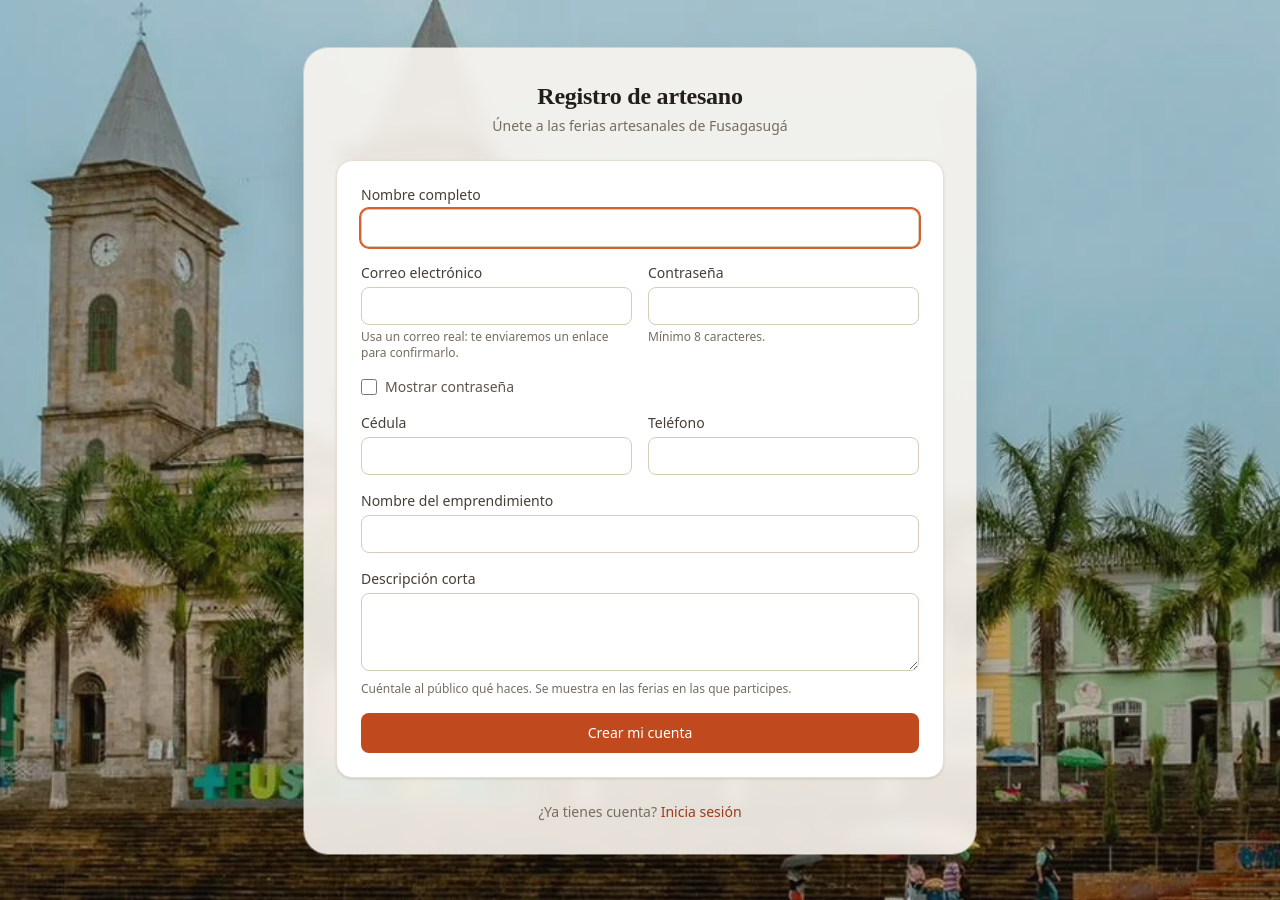
Test: RegistroArtesano: envío › si el servidor rechaza el registro muestra el error y conserva lo escrito
The width and height of the screenshot is (1280, 900).
Type "Ana Gómez" into the field labelled "Nombre completo" at (640, 228), box [361,209,919,247]
Type "ana@correo.com" into the field labelled "Correo electrónico" at (496, 306), box [361,287,632,325]
Type "Segura1234" into the password field labelled "Contraseña" at (784, 306), box [648,287,919,325]
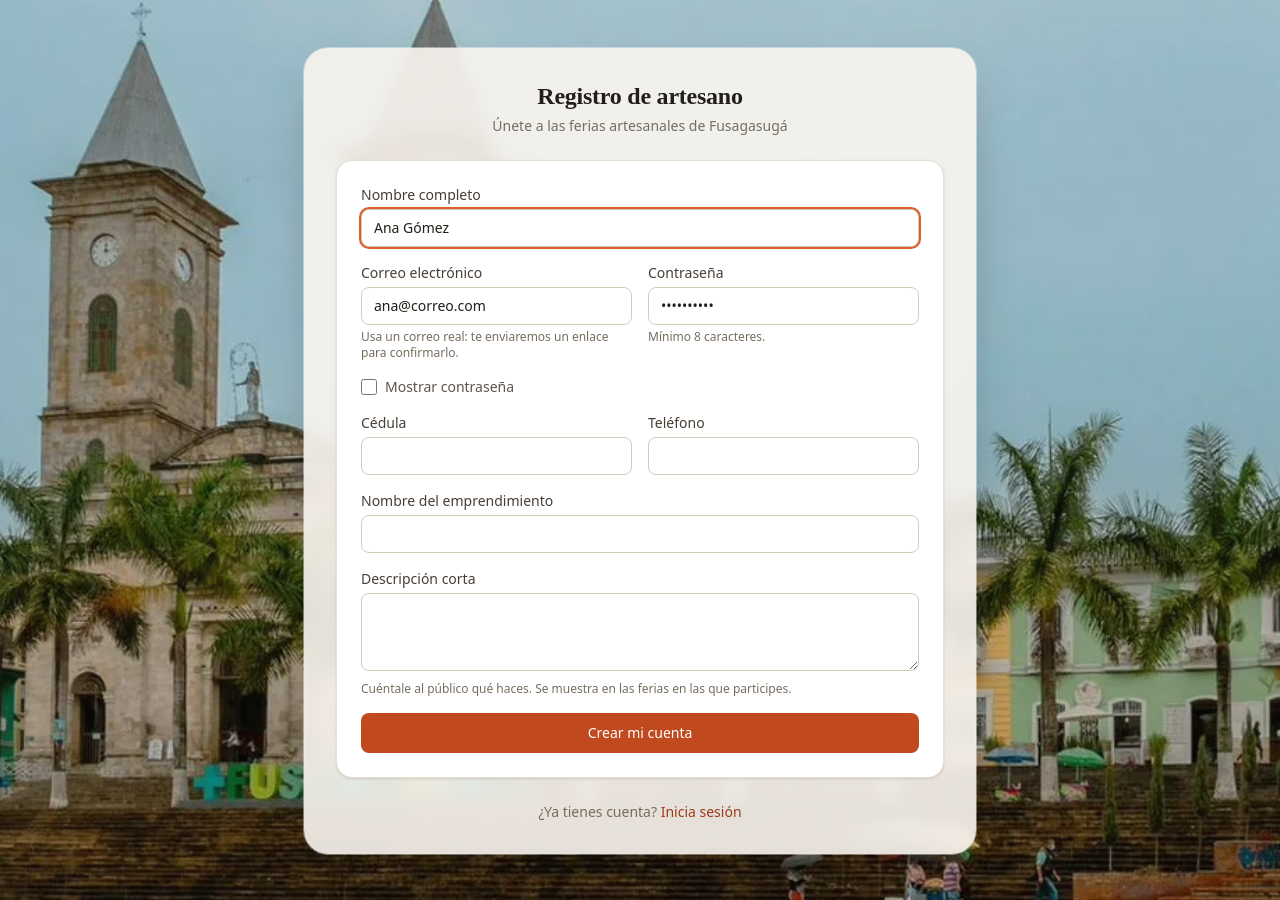
Type "1010101010" into the field labelled "Cédula" at (496, 456), box [361,437,632,475]
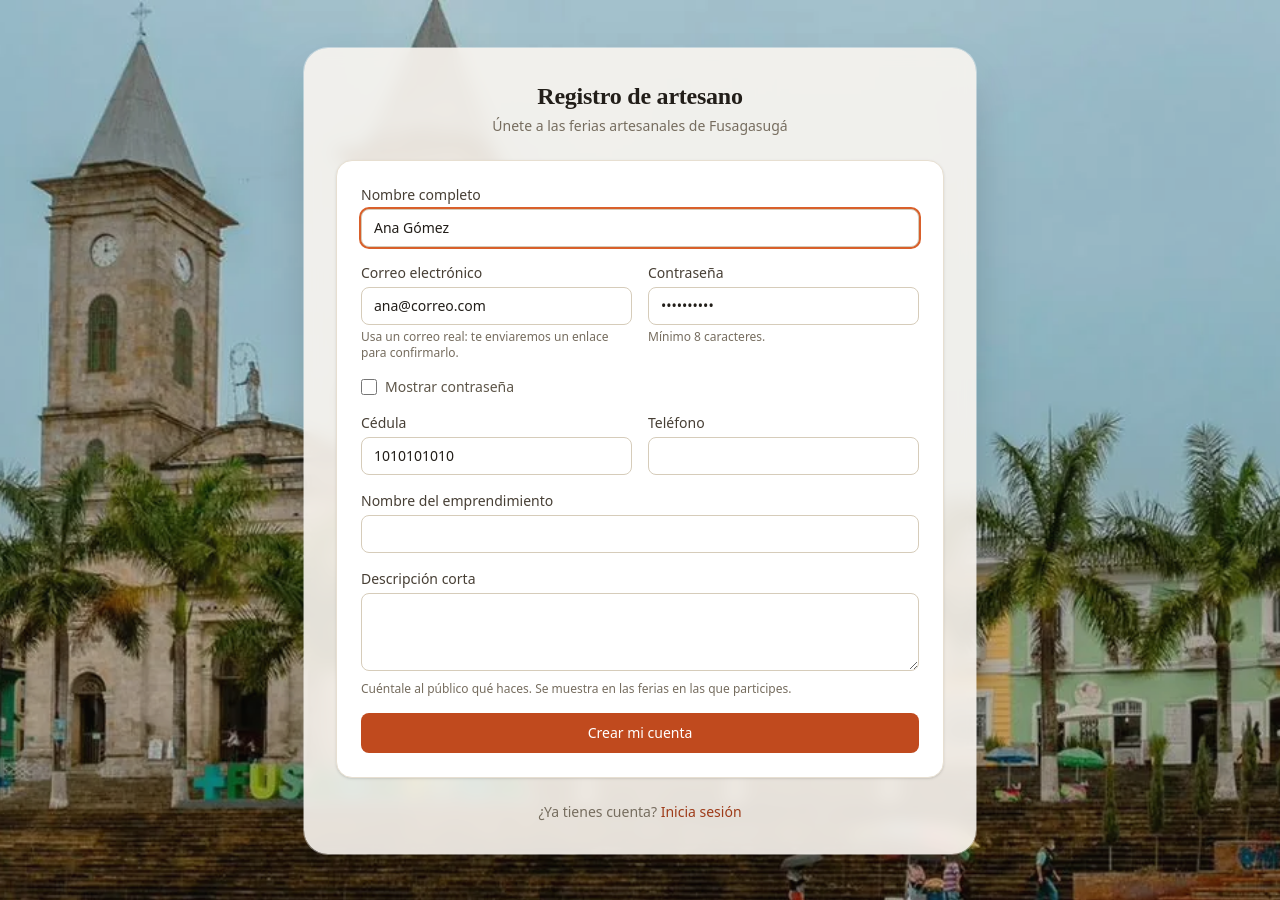
Type "3001234567" into the field labelled "Teléfono" at (784, 456), box [648,437,919,475]
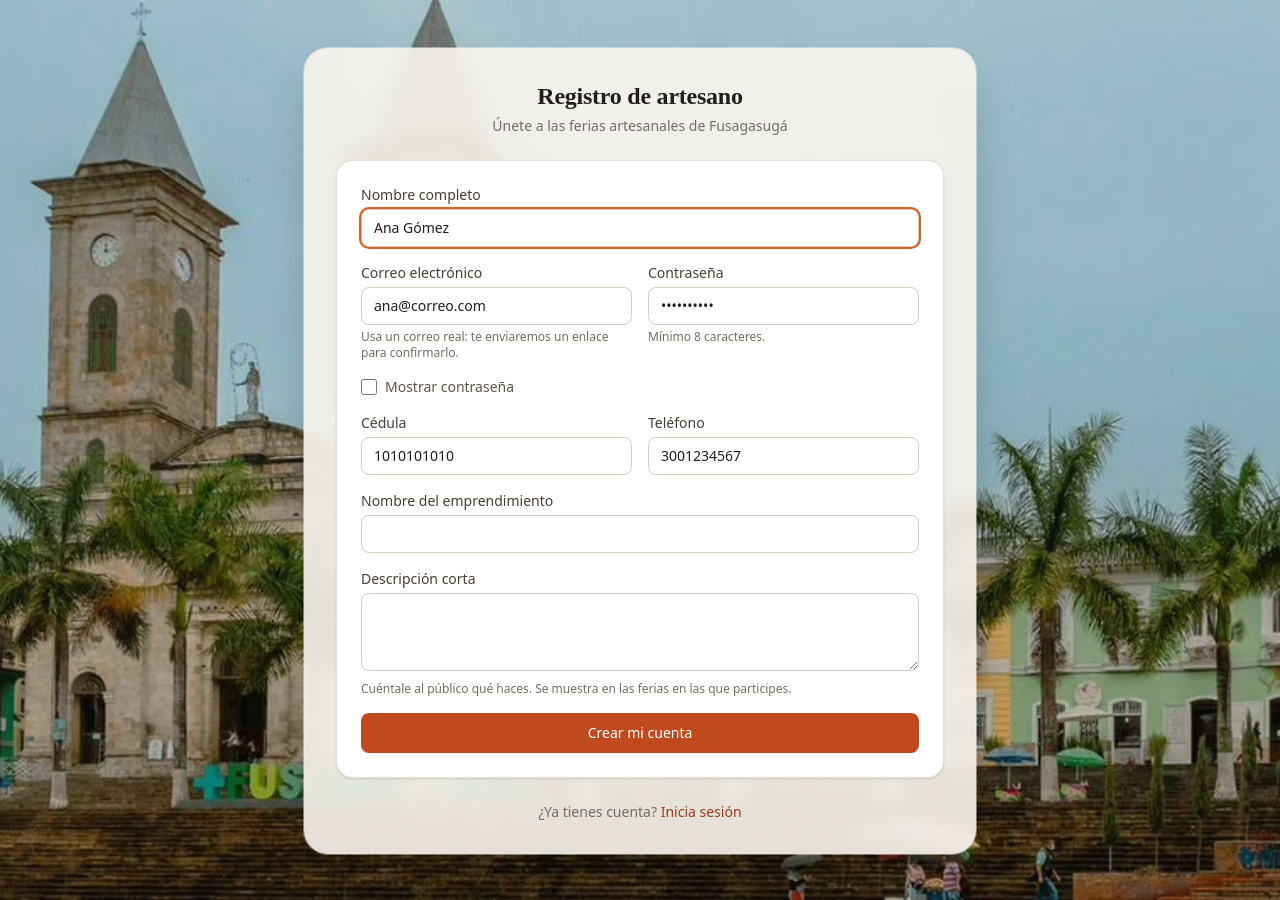
Type "Cerámicas Ana" into the field labelled "Nombre del emprendimiento" at (640, 534), box [361,515,919,553]
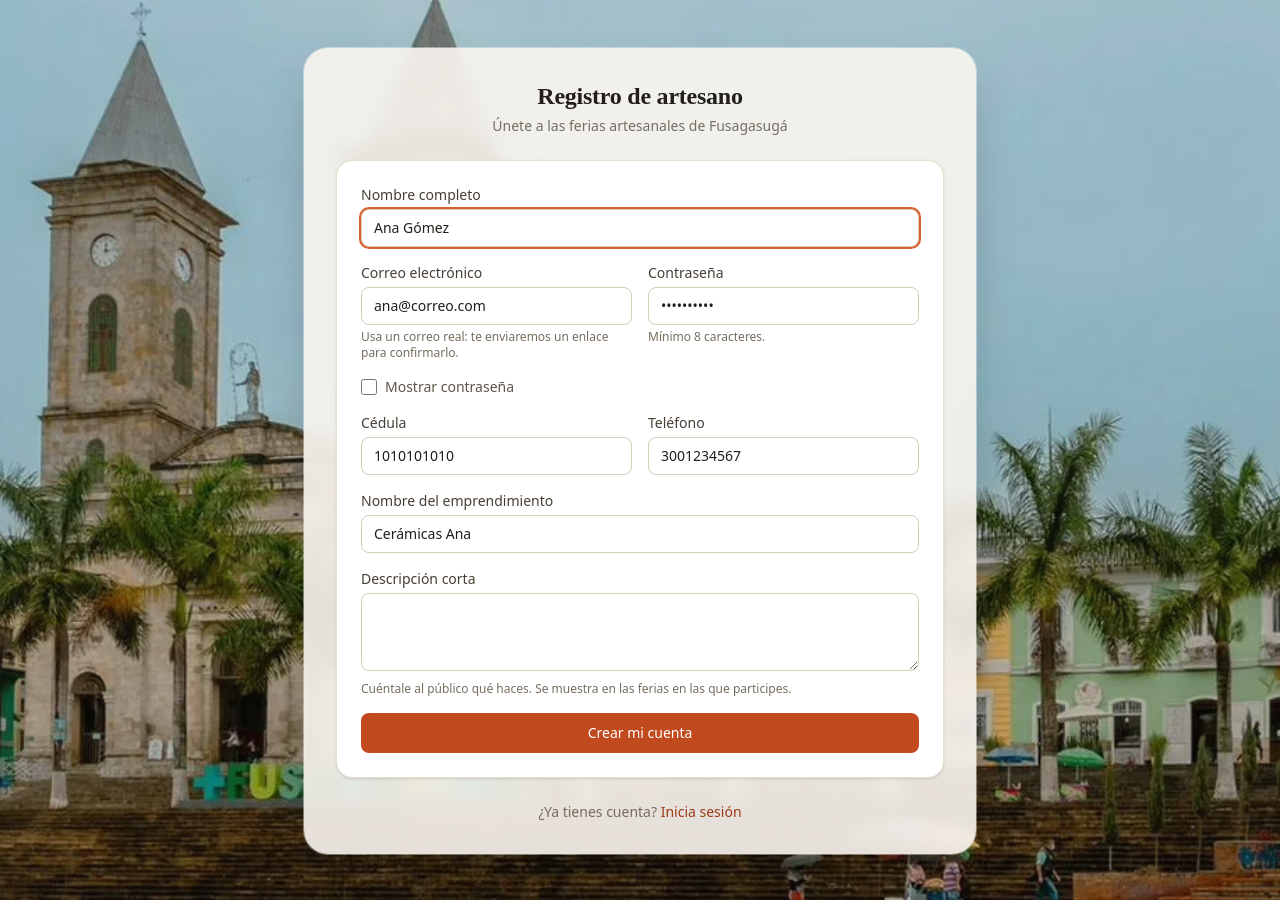
Type "Vasijas hechas a mano." into the text box labelled "Descripción corta" at (640, 632), box [361,593,919,671]
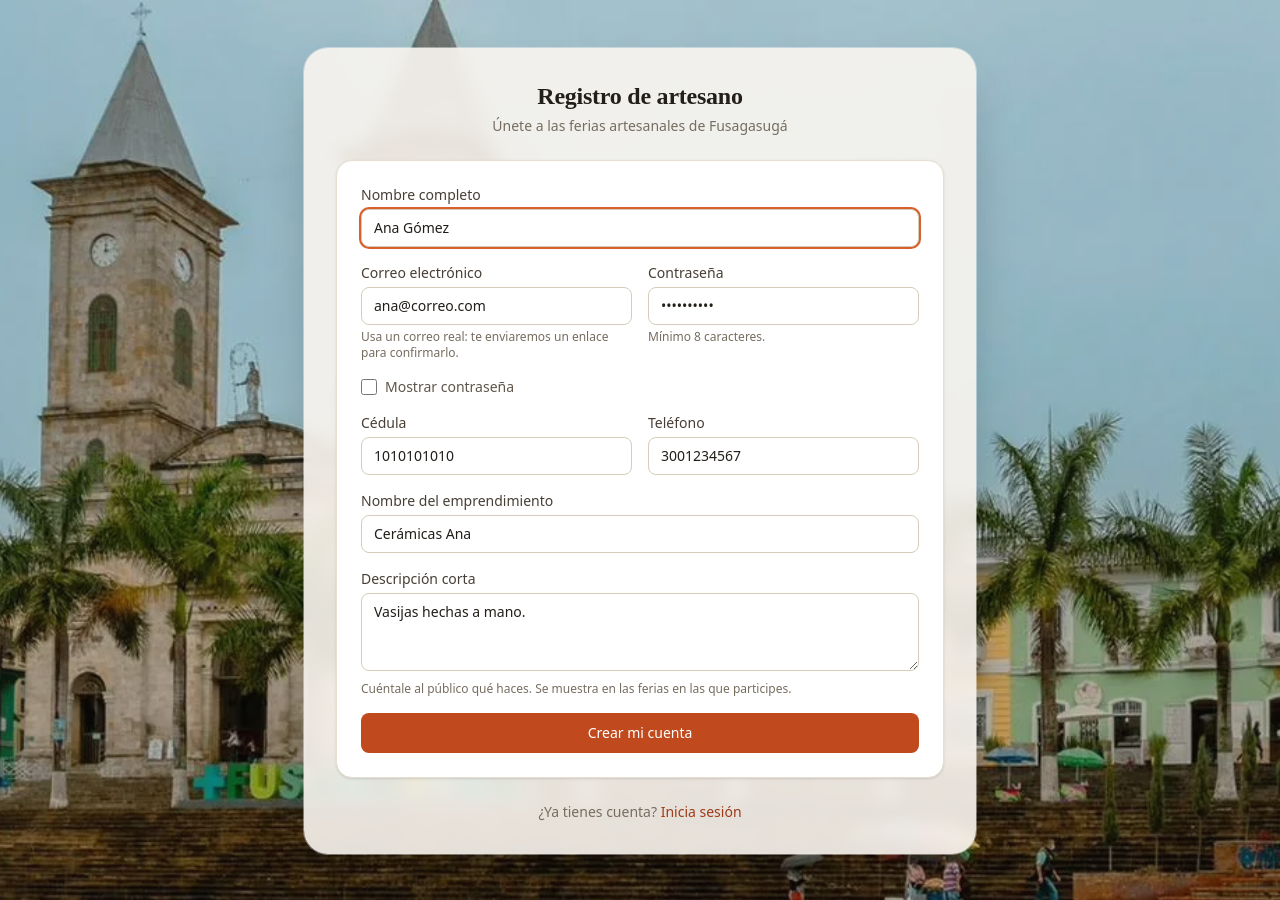
Click the button "Crear mi cuenta" at (640, 733), box [361,713,919,753]
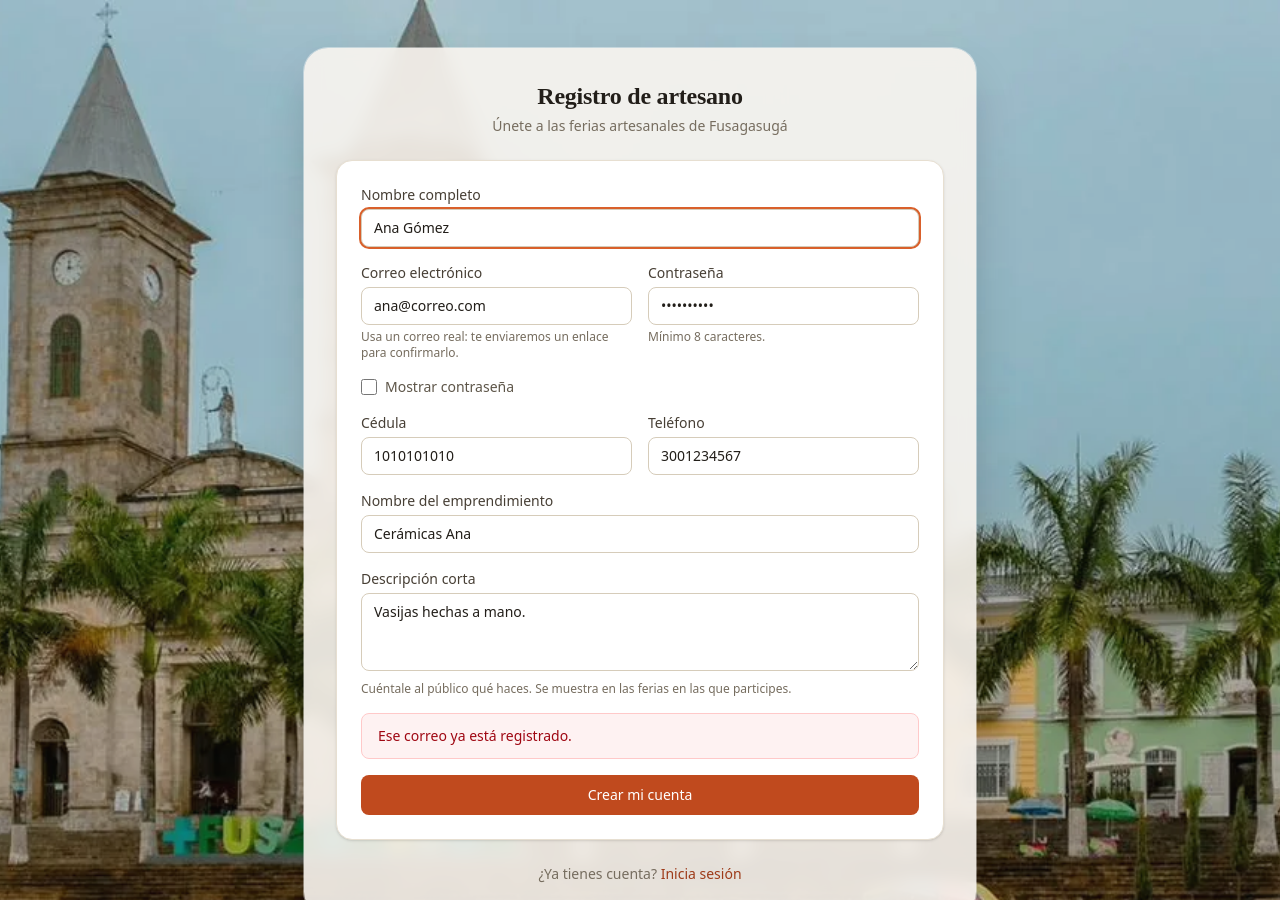
Expected: the button "Crear mi cuenta" is enabled, [361,775,919,815]
Expected: the message reads "Ese correo ya está registrado.", [378,726,572,745]
